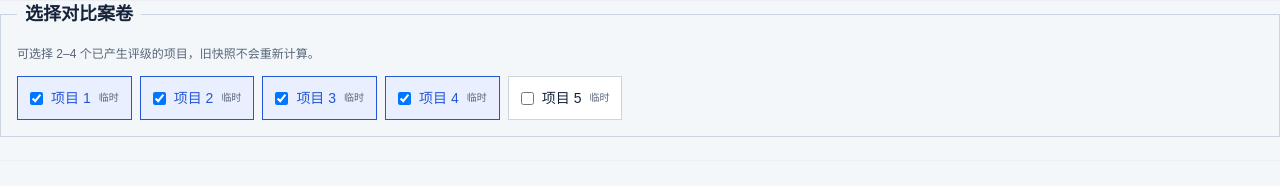
ProjectPicker › rejects a fifth project with a clear limit message
Click the checkbox labelled "项目 5" at (527, 98), box [521,92,534,104]
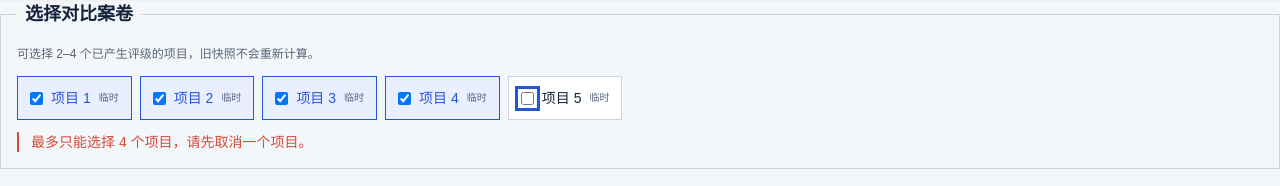
Now the message shows "最多只能选择 4 个项目", box [31,134,313,150]
